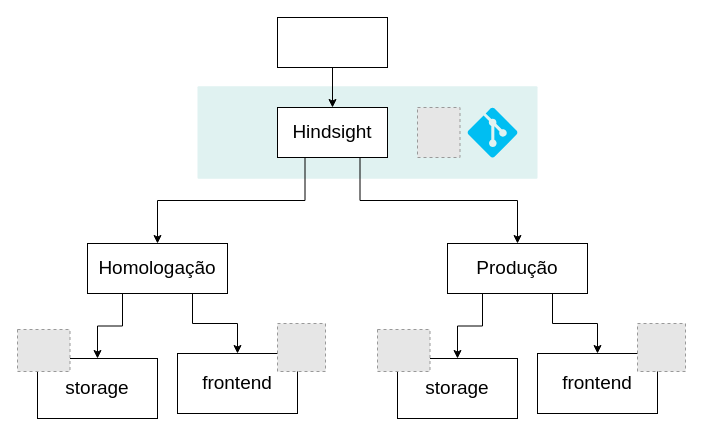
This 703x436 diagram has some shape labels left out. Grey dashed boxes stand in for pictures. The shapes that lost their labels are listed below. From the top down, each one's box as (x1, y1, x2, y2) in pixels, then its label:
(276, 16, 388, 68): JoãoCarlos
(197, 86, 537, 178): Repositório Gitlab
